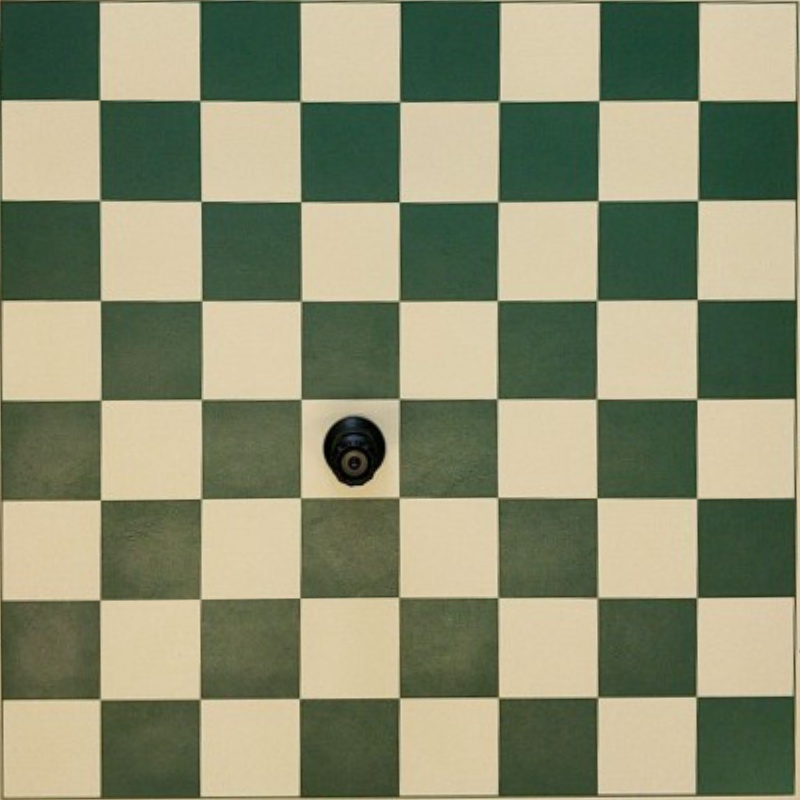black-queen: (323, 415, 386, 486)
